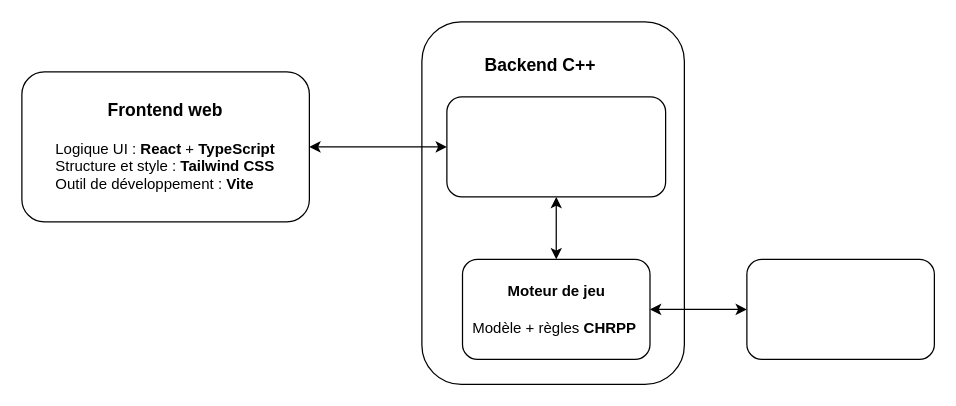
The diagram is 956 pixels wide and 406 high, and some of its shapes have lost their labels. Here are the shapes that lost their labels. From the top down, the box of each, then its label:
(446, 96, 666, 197): Backend web : Drogon Réception et envoi requête HTTP + Contrôleur
(746, 258, 934, 359): Stockage des données SQLite
